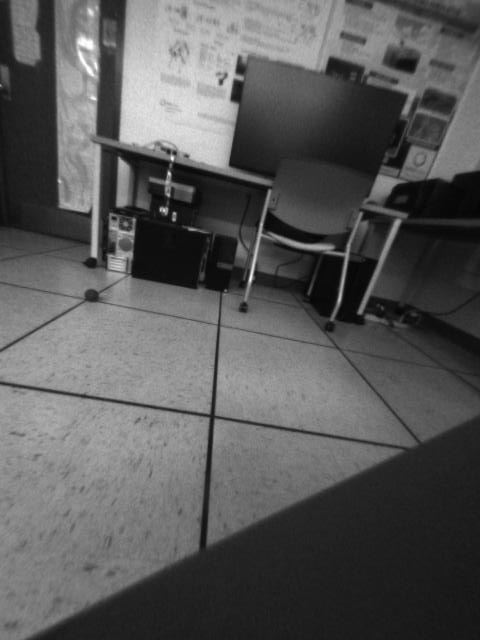dogtoy: (77, 279, 111, 308)
